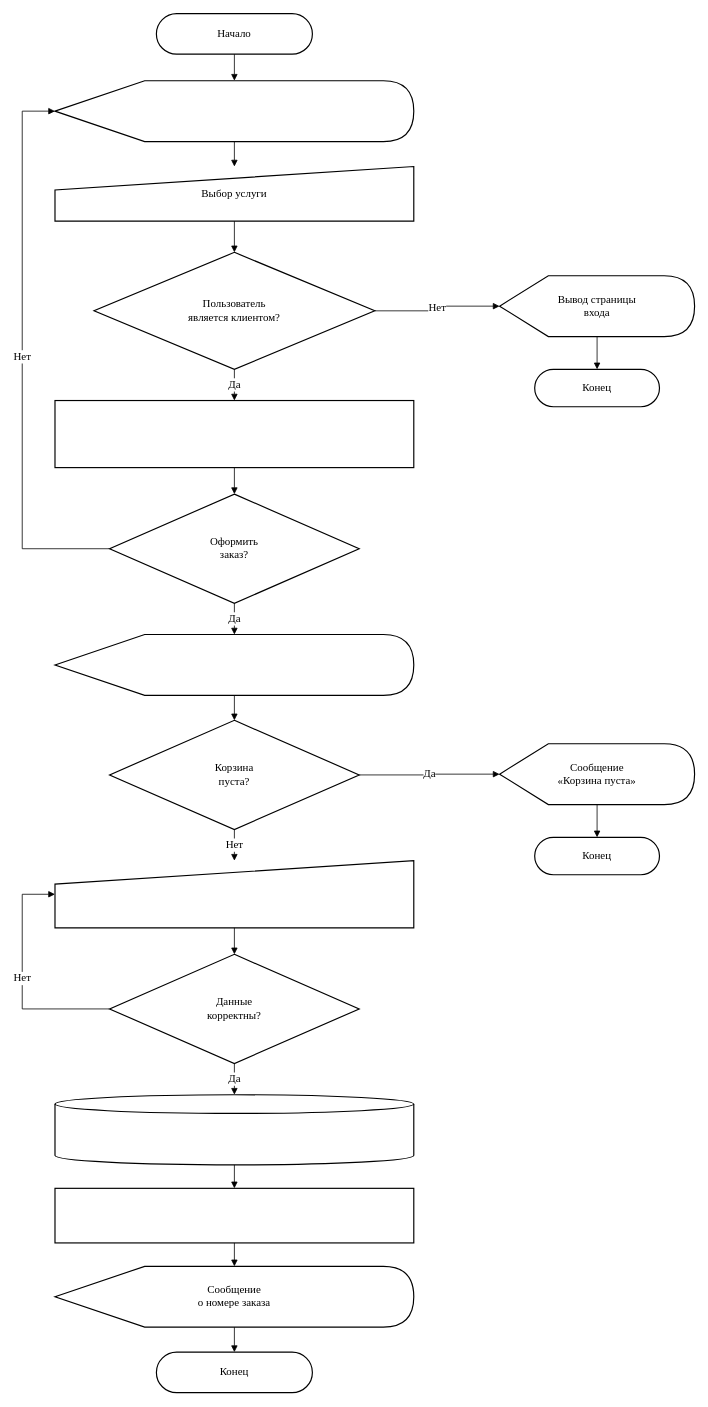
The diagram is 708 pixels wide and 1407 high, and some of its shapes have lost their labels. Here are the shapes that lost their labels. From the top down, the centre of each, then its label:
the point at 234,111: Вывод каталога услуг
the point at 234,434: Добавление позиции в корзину
the point at 234,665: Вывод корзины
the point at 234,894: Ввод телефона, связи и комментария
the point at 234,1129: Запись заказа и позиций
the point at 234,1215: Очистка корзины
